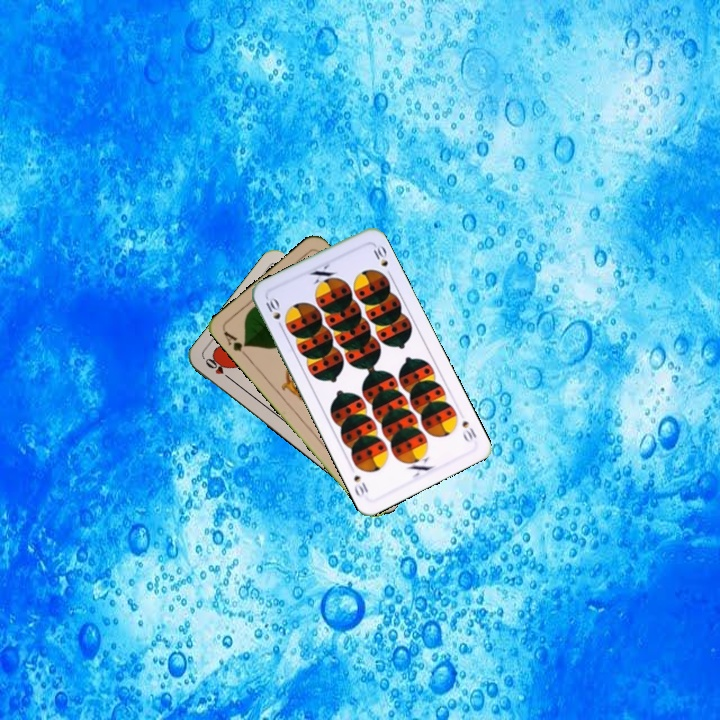GA: (219, 327, 251, 361)
HO: (201, 354, 235, 384)
S10: (262, 293, 286, 332), (458, 416, 479, 445)
